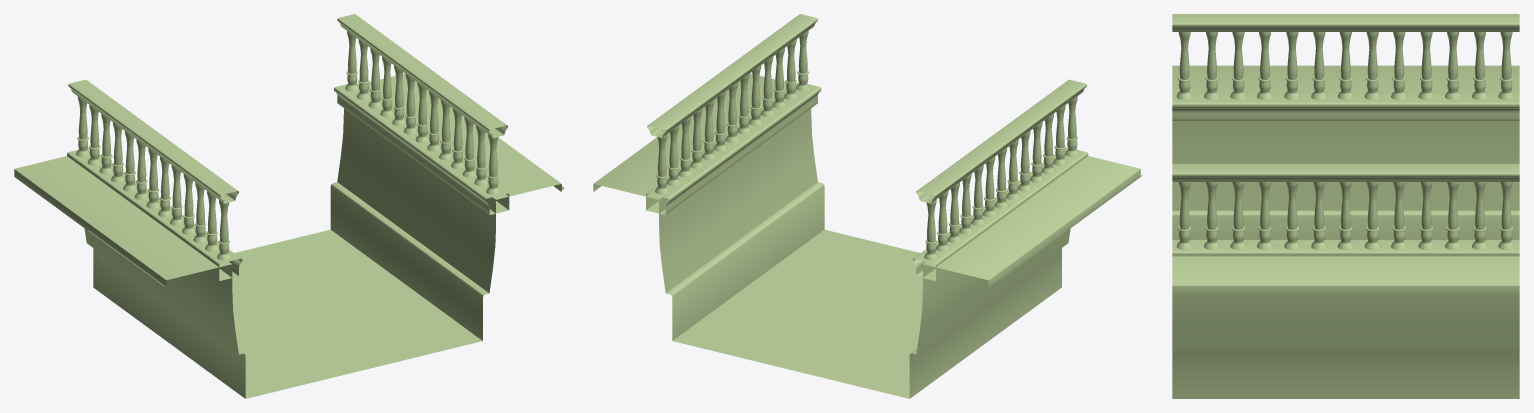
Rendered from River_moduar_Line_03.FBX.
3 renders of one model, left to right at view 1: azimuth 30°, elevation 25°; view 2: azimuth 150°, elevation 25°; view 3: azimuth 270°, elevation 25°, orthographic. The views are drawn at different scales.
Visible parts, largest first — view 1: River_moduar_Line_02_LOD0; view 2: River_moduar_Line_02_LOD0; view 3: River_moduar_Line_02_LOD0.
Boxes of the visible parts, <box> form: River_moduar_Line_02_LOD0: <box>14,14,564,398</box>; River_moduar_Line_02_LOD0: <box>593,14,1142,398</box>; River_moduar_Line_02_LOD0: <box>1172,14,1519,398</box>.
Bounding box in the file's own units: 610 × 400 × 304.
